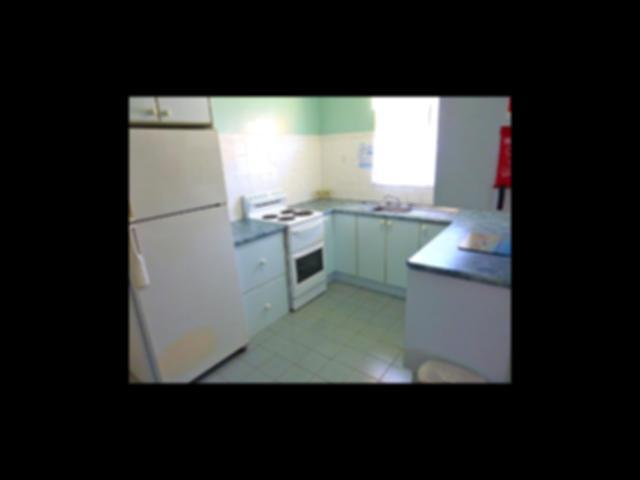Lavaplatos: (363, 193, 463, 221)
